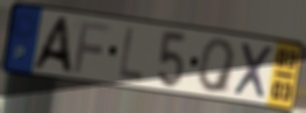5: (154, 30, 188, 90)
A: (28, 15, 75, 76)
F: (71, 18, 114, 76)
L: (116, 24, 146, 85)
Q: (196, 37, 238, 96)
X: (231, 40, 275, 102)
